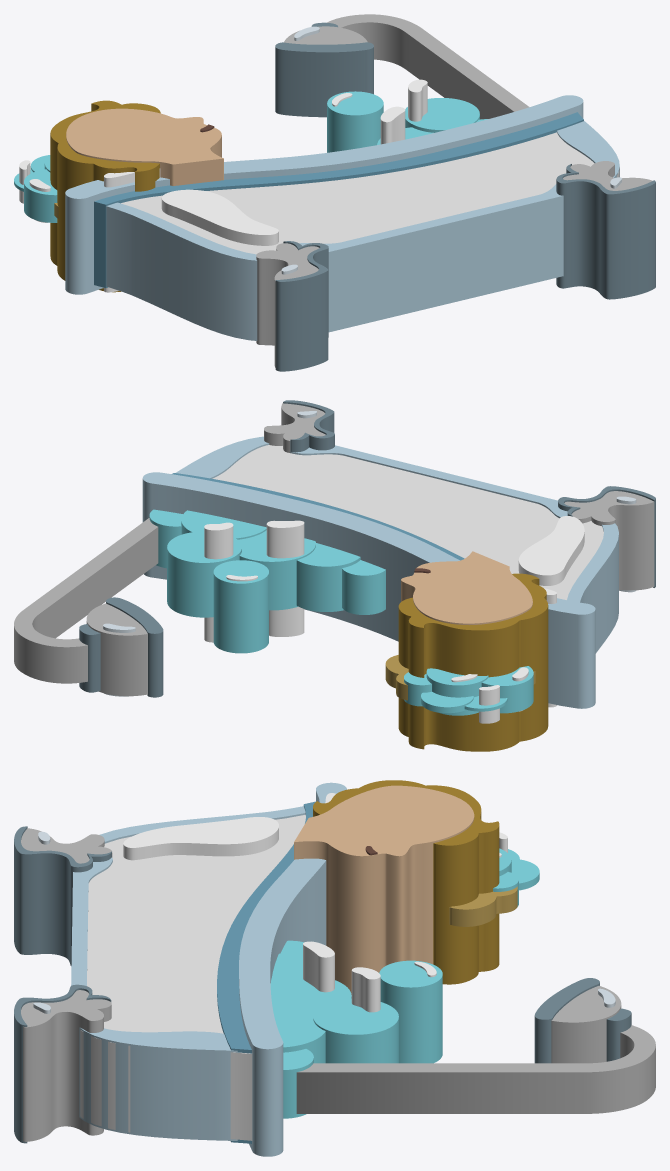
The model's file is emoji_u1f6c0_1f3fc.glb.
The picture shows the model from 3 angles, top to bottom: view 1: azimuth 30°, elevation 25°; view 2: azimuth 150°, elevation 25°; view 3: azimuth 270°, elevation 25°; orthographic projection. The views are drawn at different scales.
Visible parts, largest first — view 1: emoji_u1f6c0_1f3fc; view 2: emoji_u1f6c0_1f3fc; view 3: emoji_u1f6c0_1f3fc.
Boxes of the visible parts, x1,y1,x2,y2 form: emoji_u1f6c0_1f3fc: (14, 14, 655, 371); emoji_u1f6c0_1f3fc: (14, 400, 655, 751); emoji_u1f6c0_1f3fc: (14, 780, 655, 1156).
Size of the model in its own units: 0.0329 by 0.0084 by 0.0335.
